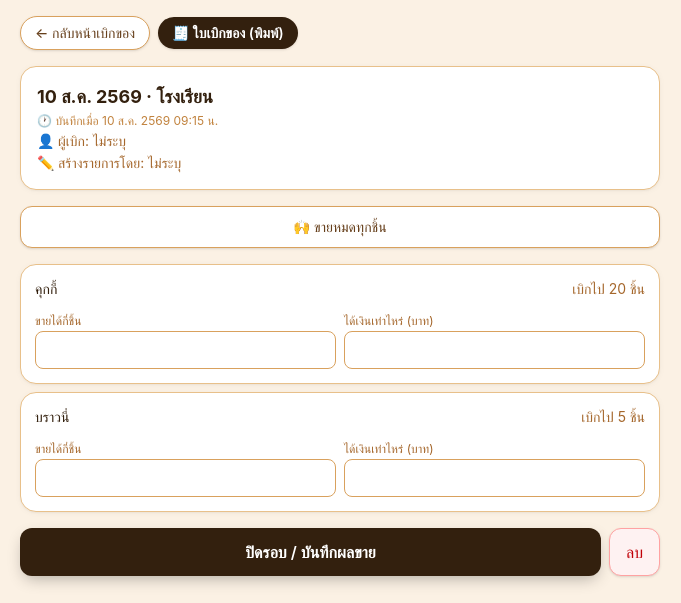
it: WithdrawalDetailPage — ยังไม่ปิดรอบ › กด "ขายหมดทุกชิ้น" กรอกจำนวนขายได้/เงินที่ได้ให้อัตโนมัติทุกแถว
Step 1. Click the button "🙌 ขายหมดทุกชิ้น" → (340, 227), box [20, 206, 660, 248]
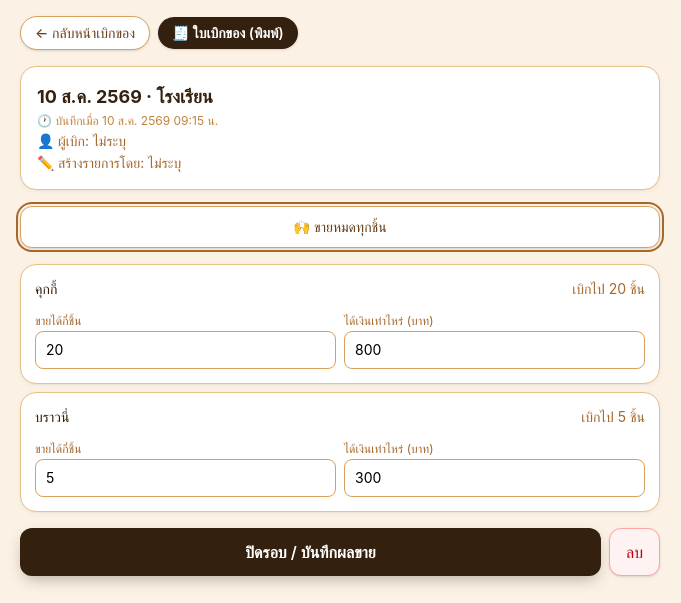
Expected: the number field labelled "ขายได้กี่ชิ้น" below "คุกกี้" holds "20", [35, 331, 336, 369]
Expected: the number field labelled "ได้เงินเท่าไหร่ (บาท)" below "20" holds "800", [344, 331, 645, 369]
Expected: the number field labelled "ขายได้กี่ชิ้น" below "บราวนี่" holds "5", [35, 459, 336, 497]
